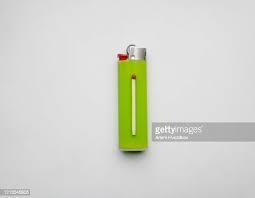lighter: (119, 42, 149, 156)
